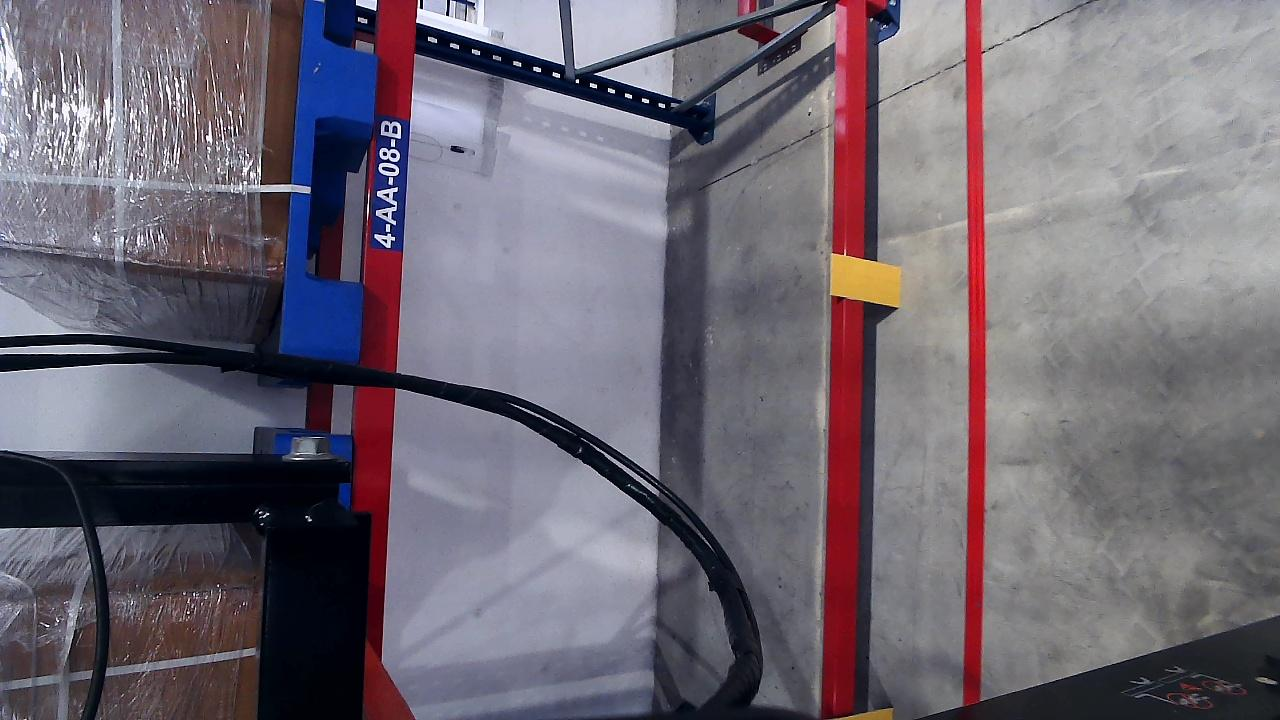h_rack: (358, 0, 423, 515), (824, 0, 874, 607)
orange_strip: (828, 253, 901, 306), (827, 708, 894, 719)
red_line: (963, 0, 988, 605)
small_pallet: (274, 0, 384, 355)
